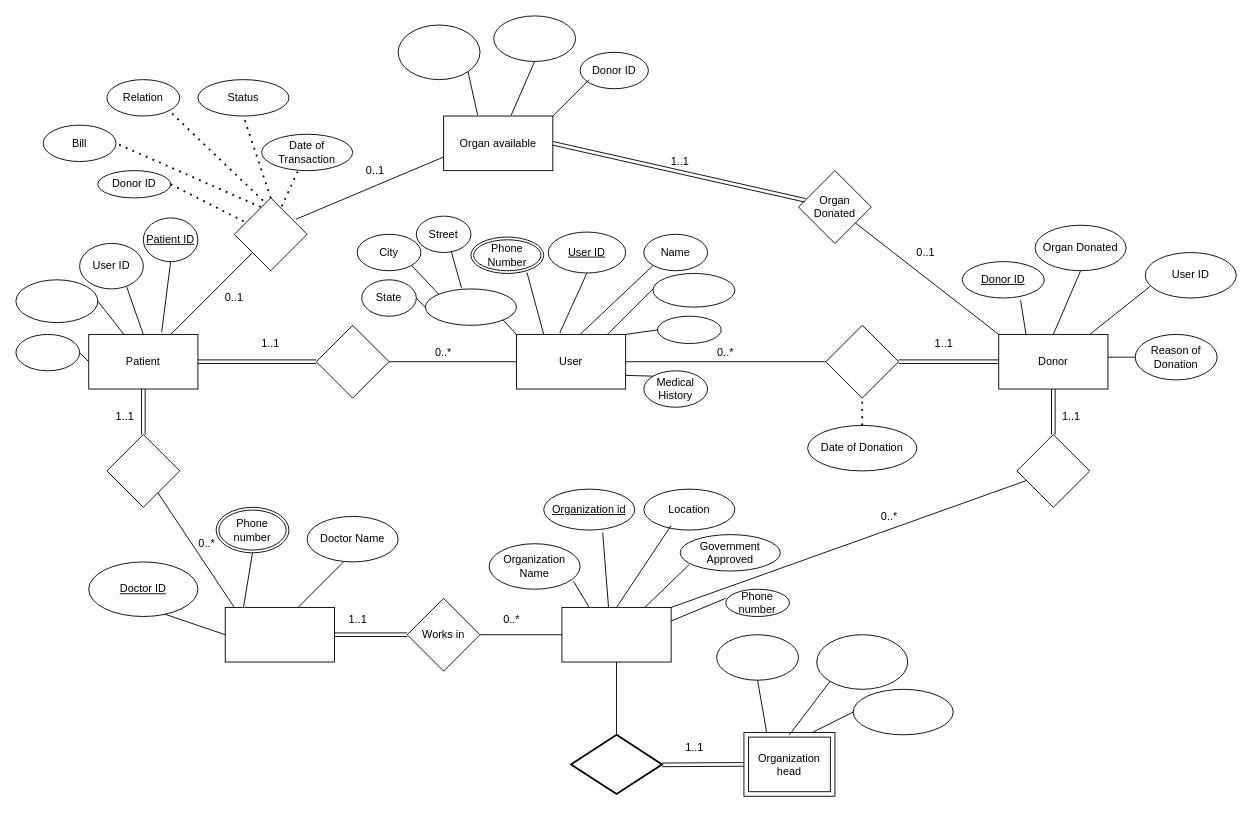
The diagram is 1252 pixels wide and 813 high, and some of its shapes have lost their labels. Each missing label, with the centre of its shape:
Address: [470,306]
Attended by: [143,470]
Date of Birth: [693,290]
Date of Joining: [862,661]
Doctor: [279,634]
Donated: [862,361]
Head name: [757,657]
Heads: [616,763]
Medical Insurance: [689,329]
Organ ID: [438,52]
Organ Name: [534,38]
Organ Required: [47,352]
Organization: [616,634]
Procures: [352,361]
Reason For Procurement: [56,301]
Registers: [1053,470]
Term Length: [902,711]
Transaction: [270,234]
